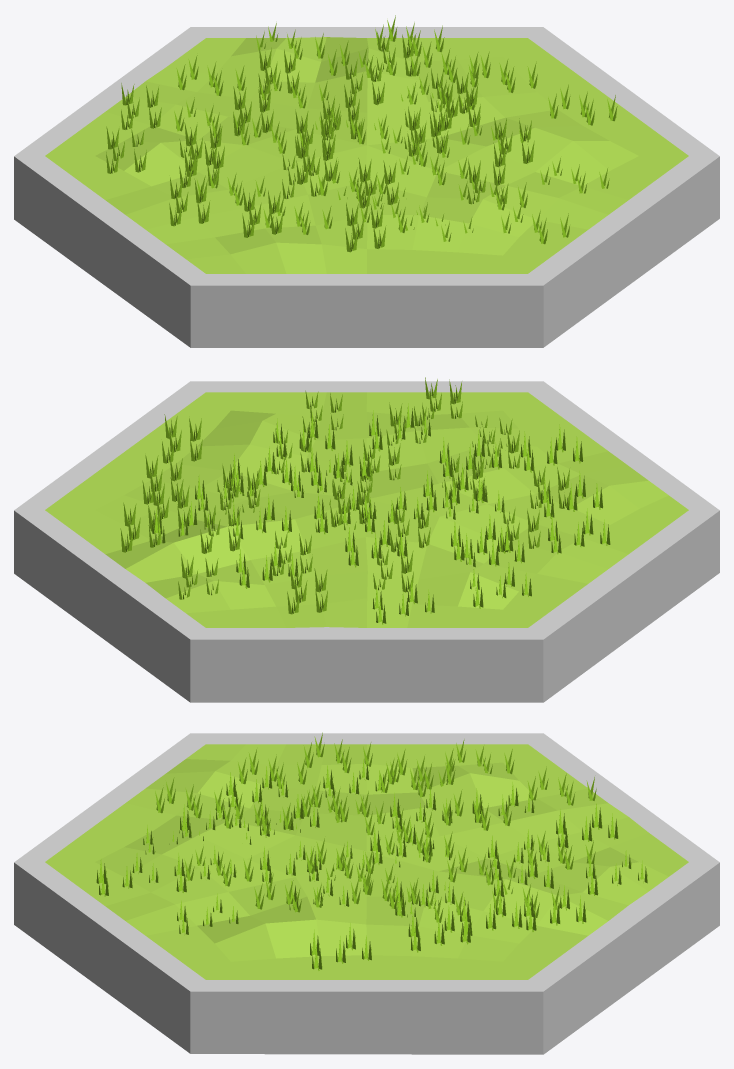
Rendered from biome_meadow.fbx.
3 views of the same model, one above another, from view 1: azimuth 30°, elevation 25°; view 2: azimuth 150°, elevation 25°; view 3: azimuth 270°, elevation 25° (orthographic).
Visible parts, largest first — view 1: Hexagon.001, Hexagon, Cone; view 2: Hexagon.001, Hexagon, Cone; view 3: Hexagon.001, Hexagon, Cone.
Boxes of the visible parts, bbox=[...] form: Hexagon.001: bbox=[45, 37, 688, 273]; Hexagon: bbox=[14, 27, 719, 347]; Cone: bbox=[106, 15, 617, 252]; Hexagon.001: bbox=[45, 392, 688, 627]; Hexagon: bbox=[14, 381, 719, 702]; Cone: bbox=[120, 377, 610, 624]; Hexagon.001: bbox=[45, 744, 688, 979]; Hexagon: bbox=[14, 733, 719, 1054]; Cone: bbox=[96, 732, 647, 970].
Size of the model in its own units: 173 by 32.64 by 200.
